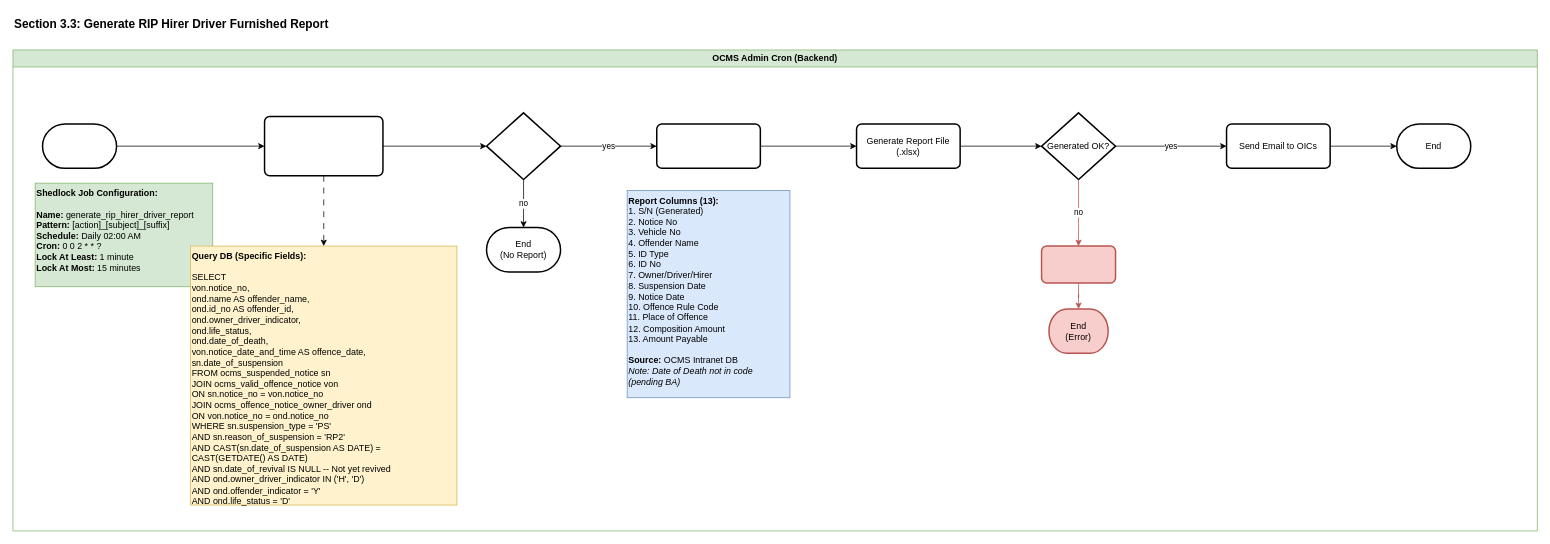
Some shapes in this 1550 by 544 pixel diagram are drawn without their labels. Each missing label, with the centre of its shape:
"Any records?" belongs at point (523, 146).
"Cron Start (Daily)" belongs at point (79, 146).
"Format Data for Report" belongs at point (708, 146).
"Log Error" belongs at point (1078, 264).
"Query for notices with PS-RP2 today + deceased Hirer/Driver" belongs at point (323, 145).
